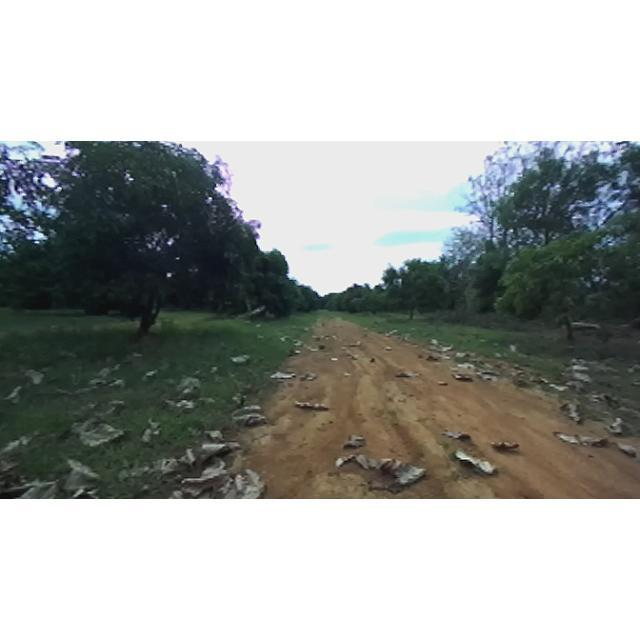direk: (13, 143, 271, 335), (464, 148, 640, 348), (456, 141, 540, 303), (199, 232, 303, 321), (376, 256, 454, 324), (337, 276, 383, 318)
